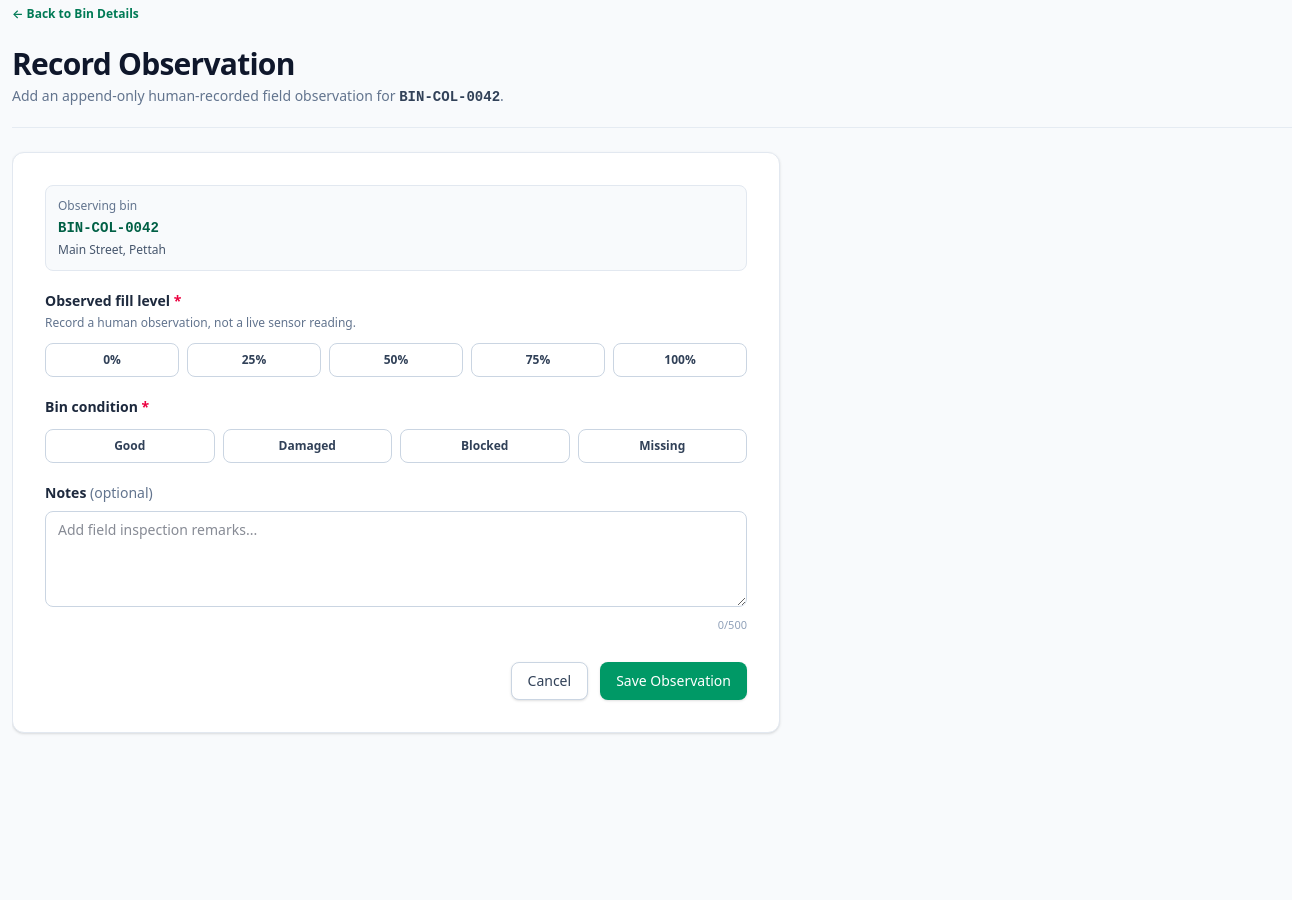
Scenario: RecordBinObservationPage › keeps the page open and reports an API failure
What coordinates should you click on to do the following:
click the radio button labelled "75%"
I would click on:
 (538, 360)
Its box is [471, 343, 605, 377].
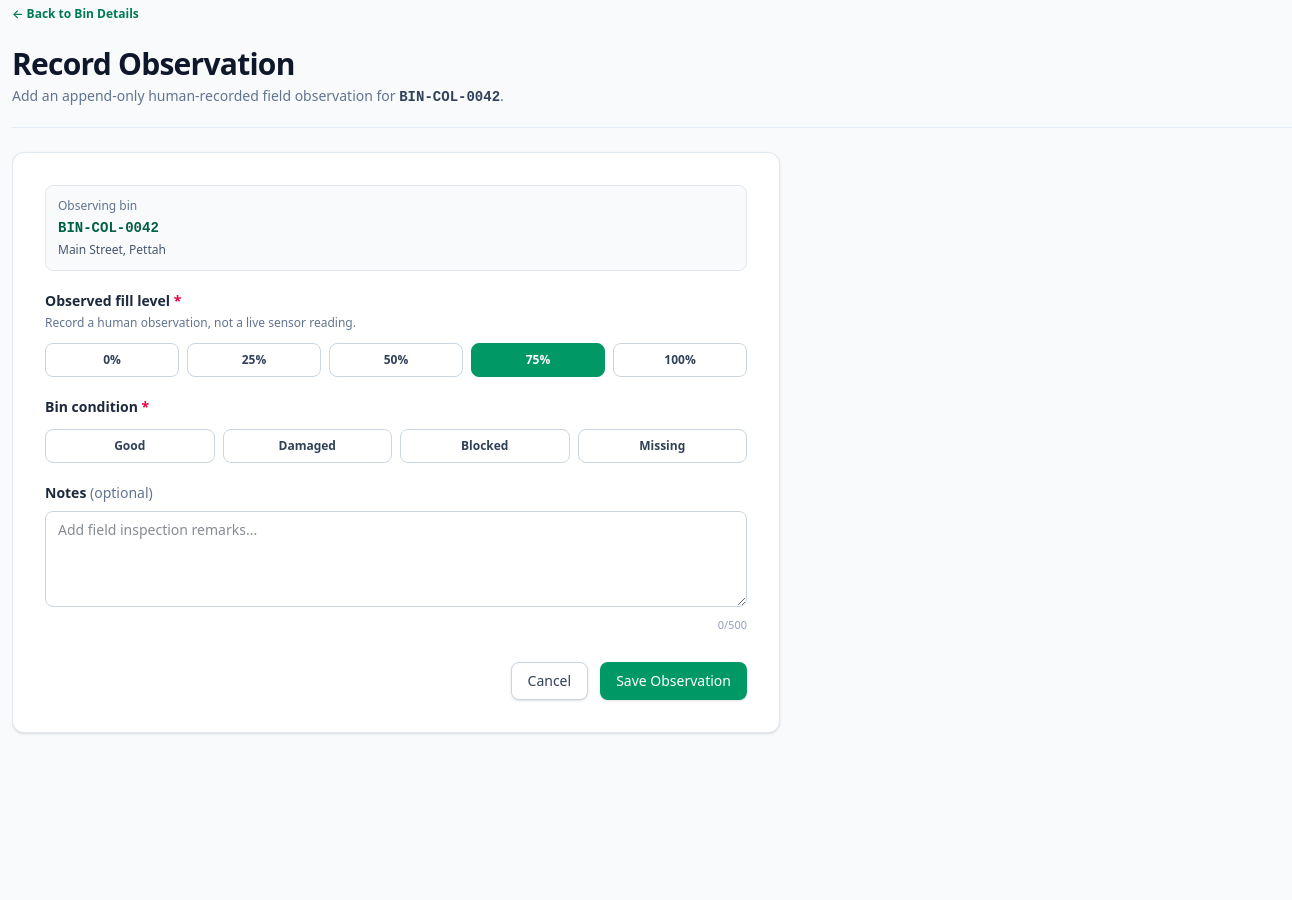
What coordinates should you click on to do the following:
click the radio button labelled "Good"
I would click on:
 (130, 446)
Its box is [45, 429, 214, 463].
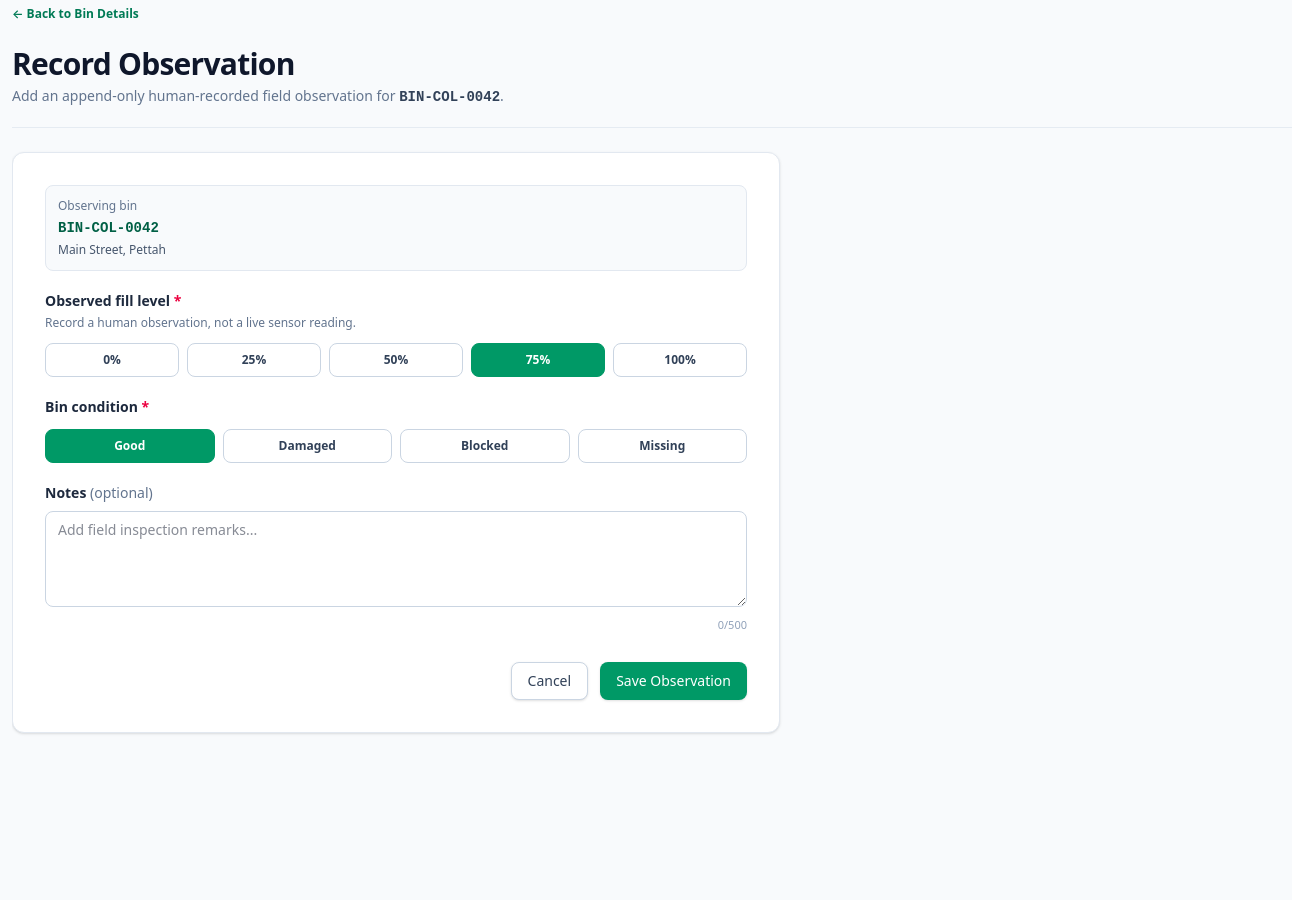
What coordinates should you click on to do the following:
click the button "Save Observation"
I would click on:
 (674, 680)
Its box is [600, 662, 747, 700].
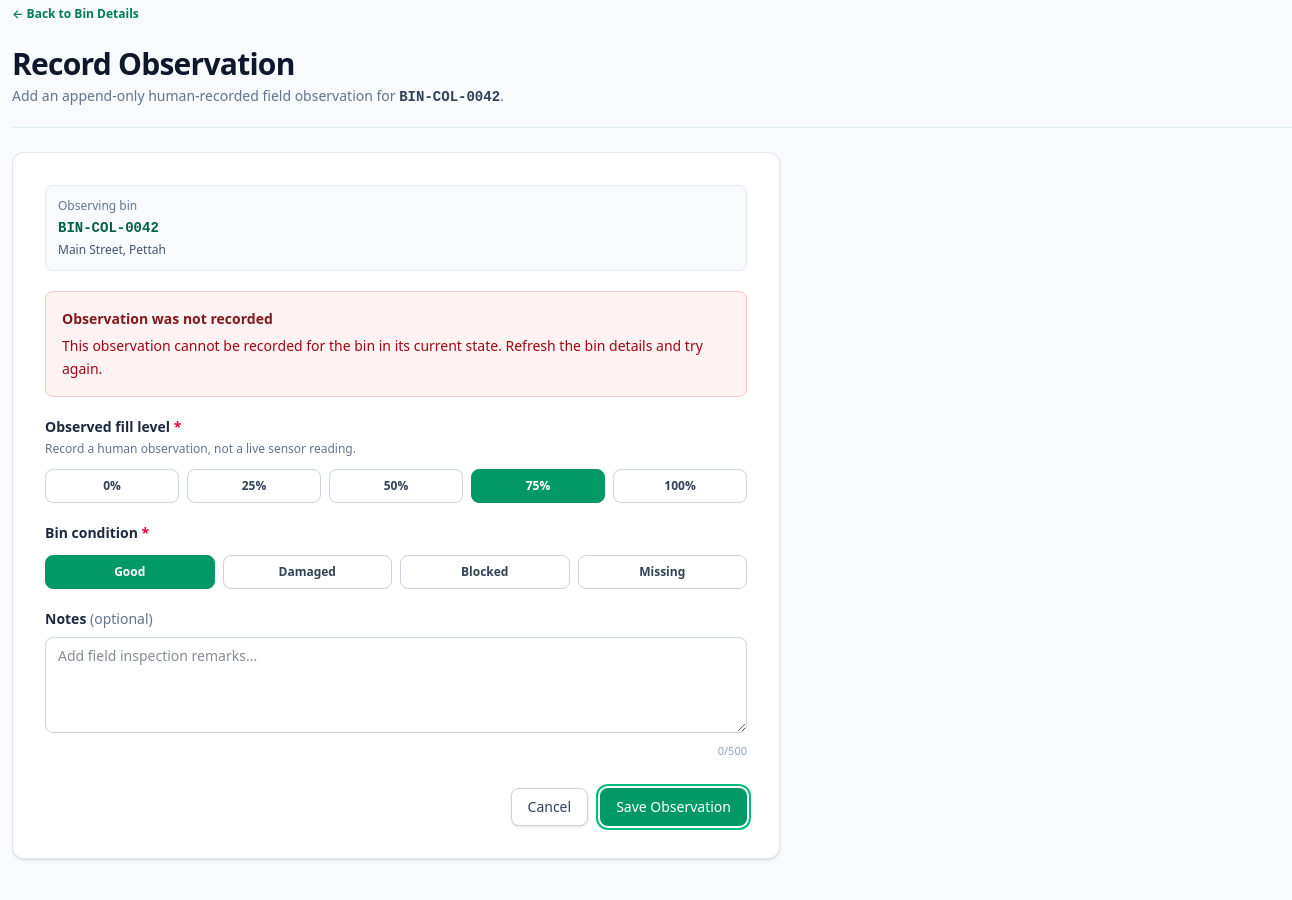
Now the text "cannot be recorded for the bin in its current state" is shown, box [62, 336, 703, 378]
